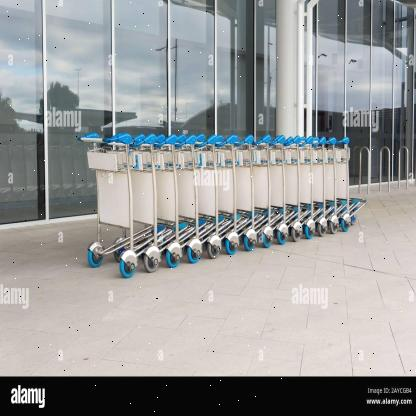airport-trolley: (75, 131, 167, 279), (111, 130, 193, 274), (134, 133, 216, 269), (156, 135, 233, 264), (178, 136, 248, 258), (197, 134, 266, 255), (213, 136, 281, 251), (236, 136, 298, 246), (256, 135, 313, 243), (275, 136, 324, 239), (296, 137, 337, 234), (318, 138, 354, 235), (330, 138, 366, 234)
